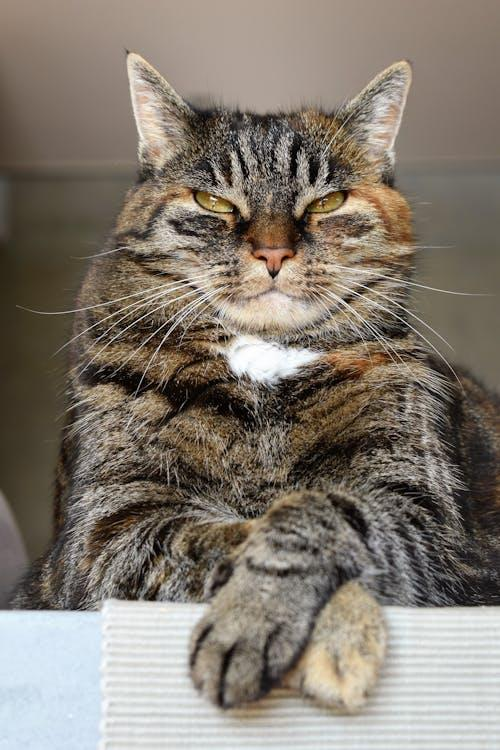kedo: (35, 51, 500, 710)
